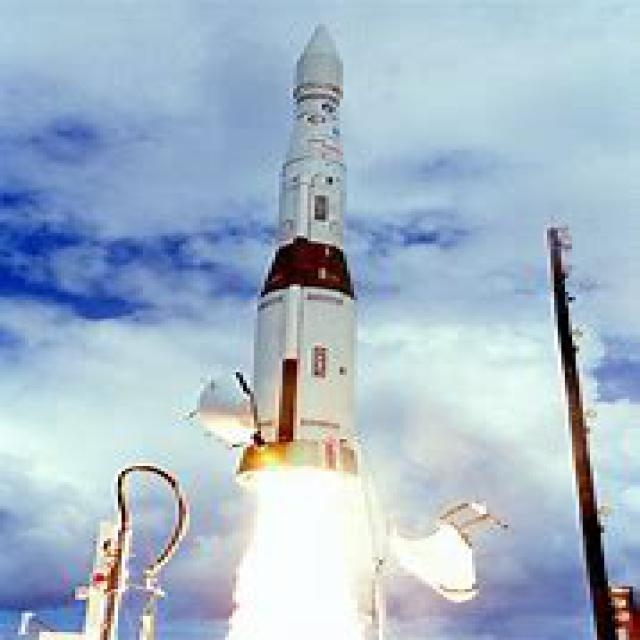missile: (242, 18, 370, 481)
